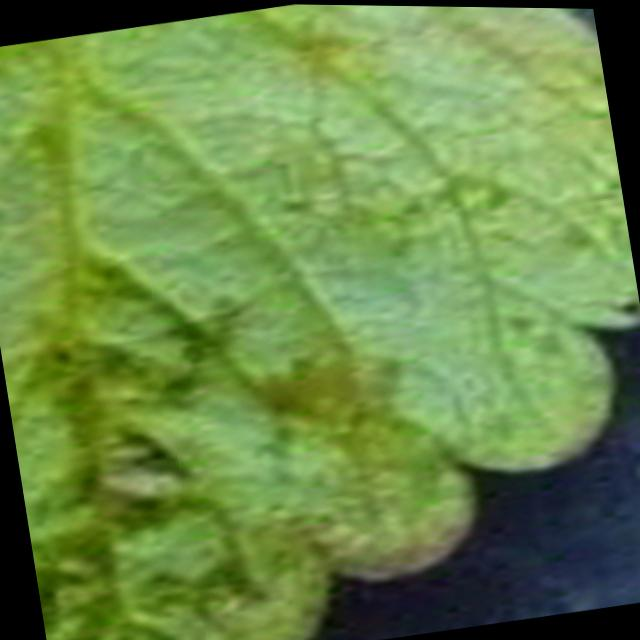Angular Leafspot: (0, 238, 501, 640)
